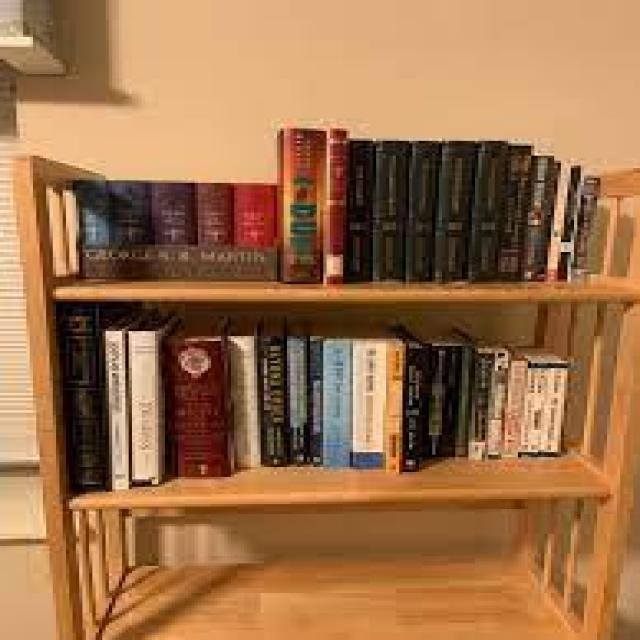book: (56, 304, 104, 489), (167, 337, 228, 478), (279, 130, 325, 284), (437, 141, 475, 280), (127, 332, 158, 487), (472, 142, 506, 279), (407, 141, 440, 282), (376, 143, 409, 280), (104, 334, 129, 488), (320, 346, 351, 467), (229, 340, 257, 467), (351, 350, 381, 467), (350, 140, 373, 280), (261, 336, 285, 468), (327, 130, 348, 280), (401, 350, 426, 473), (383, 346, 406, 473), (69, 180, 111, 245), (153, 183, 195, 245), (287, 340, 308, 463), (470, 352, 493, 460), (234, 185, 274, 243), (114, 182, 150, 246), (198, 187, 231, 247), (307, 340, 322, 463)
